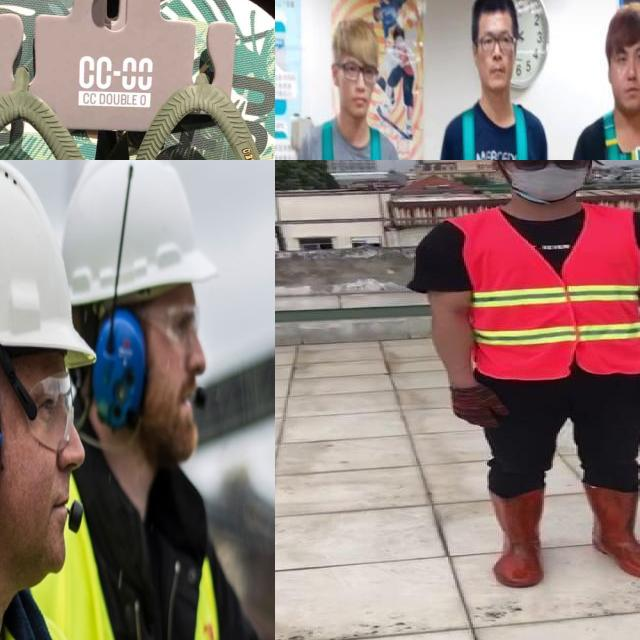Ear-protection: (61, 228, 208, 468), (0, 201, 84, 603)
Sandals: (0, 0, 275, 160)
boots: (487, 489, 546, 587), (588, 481, 640, 580)
person: (412, 160, 640, 590)
vest: (457, 205, 640, 378)
